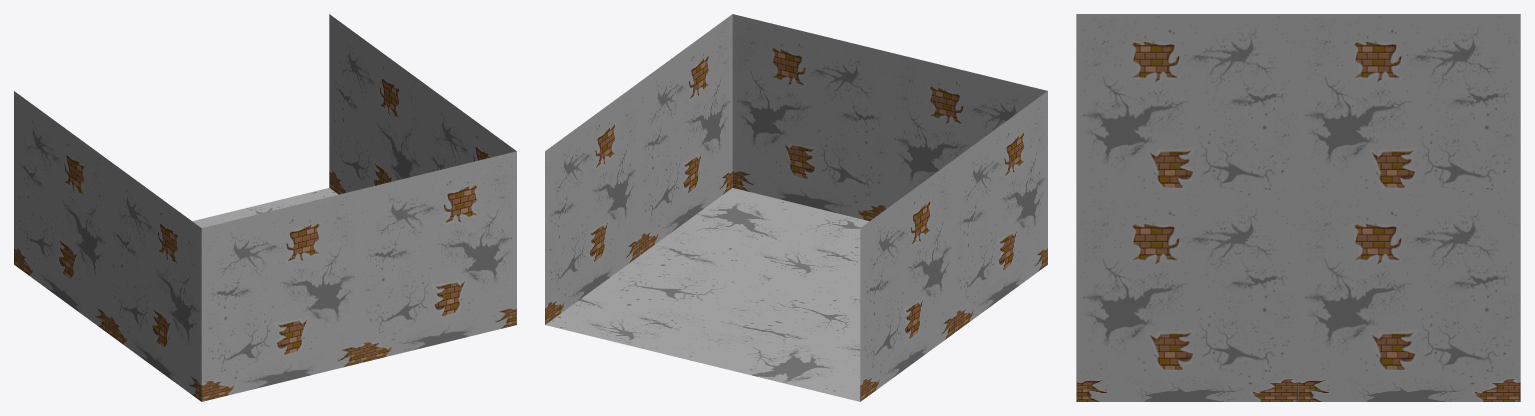
The picture shows the model from 3 angles, left to right: view 1: azimuth 30°, elevation 25°; view 2: azimuth 150°, elevation 25°; view 3: azimuth 270°, elevation 25°; orthographic projection. The views are drawn at different scales.
Visible parts, largest first — view 1: BG1; view 2: BG1; view 3: BG1.
Boxes of the visible parts, x1,y1,x2,y2 form: BG1: [14, 14, 516, 401]; BG1: [545, 14, 1047, 401]; BG1: [1076, 14, 1520, 401].
Size of the model in its own units: 18642 by 19205 by 9820.
